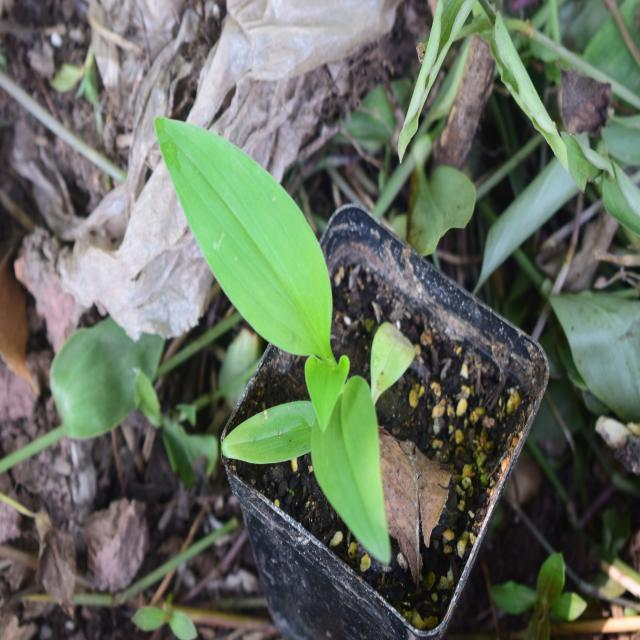Common Dayflower: (156, 108, 401, 552)
